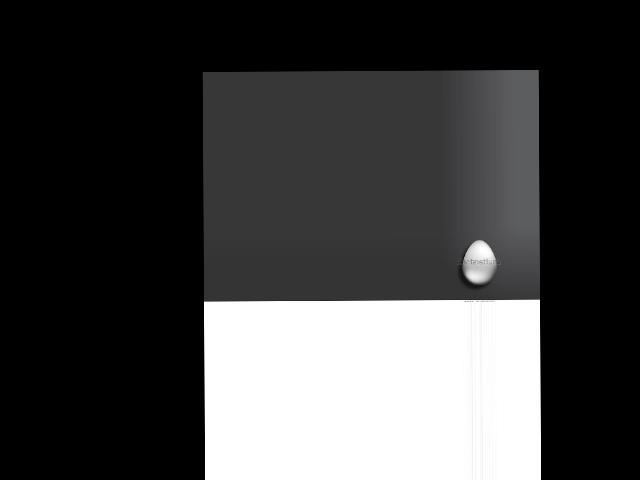egg: (461, 239, 496, 284)
